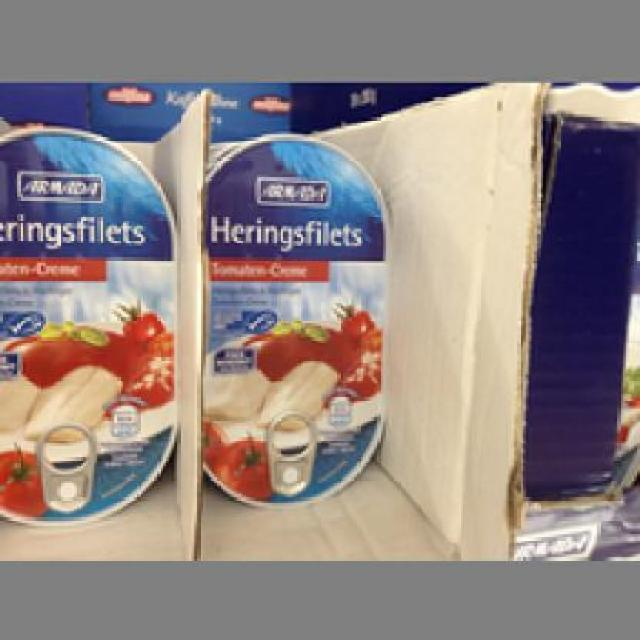Fish: (0, 126, 180, 520), (202, 132, 388, 508)
